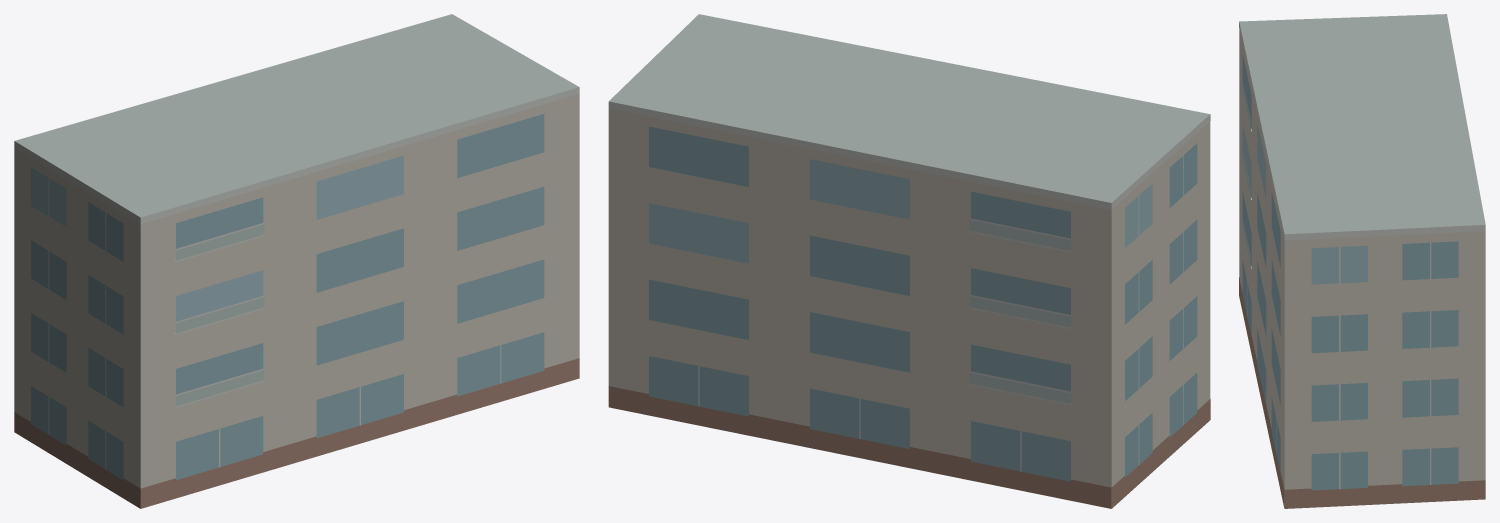
File: survey-upis-32526942.glb
3 views of the same model, side by side, from view 1: azimuth 30°, elevation 25°; view 2: azimuth 150°, elevation 25°; view 3: azimuth 270°, elevation 25° (orthographic). The views are drawn at different scales.
Visible parts, largest first — view 1: survey-upis-32526942.tmp; view 2: survey-upis-32526942.tmp; view 3: survey-upis-32526942.tmp.
Part boxes in pixels (x1=…): survey-upis-32526942.tmp: x1=14, y1=14, x2=579, y2=508; survey-upis-32526942.tmp: x1=608, y1=14, x2=1210, y2=508; survey-upis-32526942.tmp: x1=1239, y1=14, x2=1485, y2=508.
Size of the model in its own units: 18.41 by 10.69 by 8.71.
